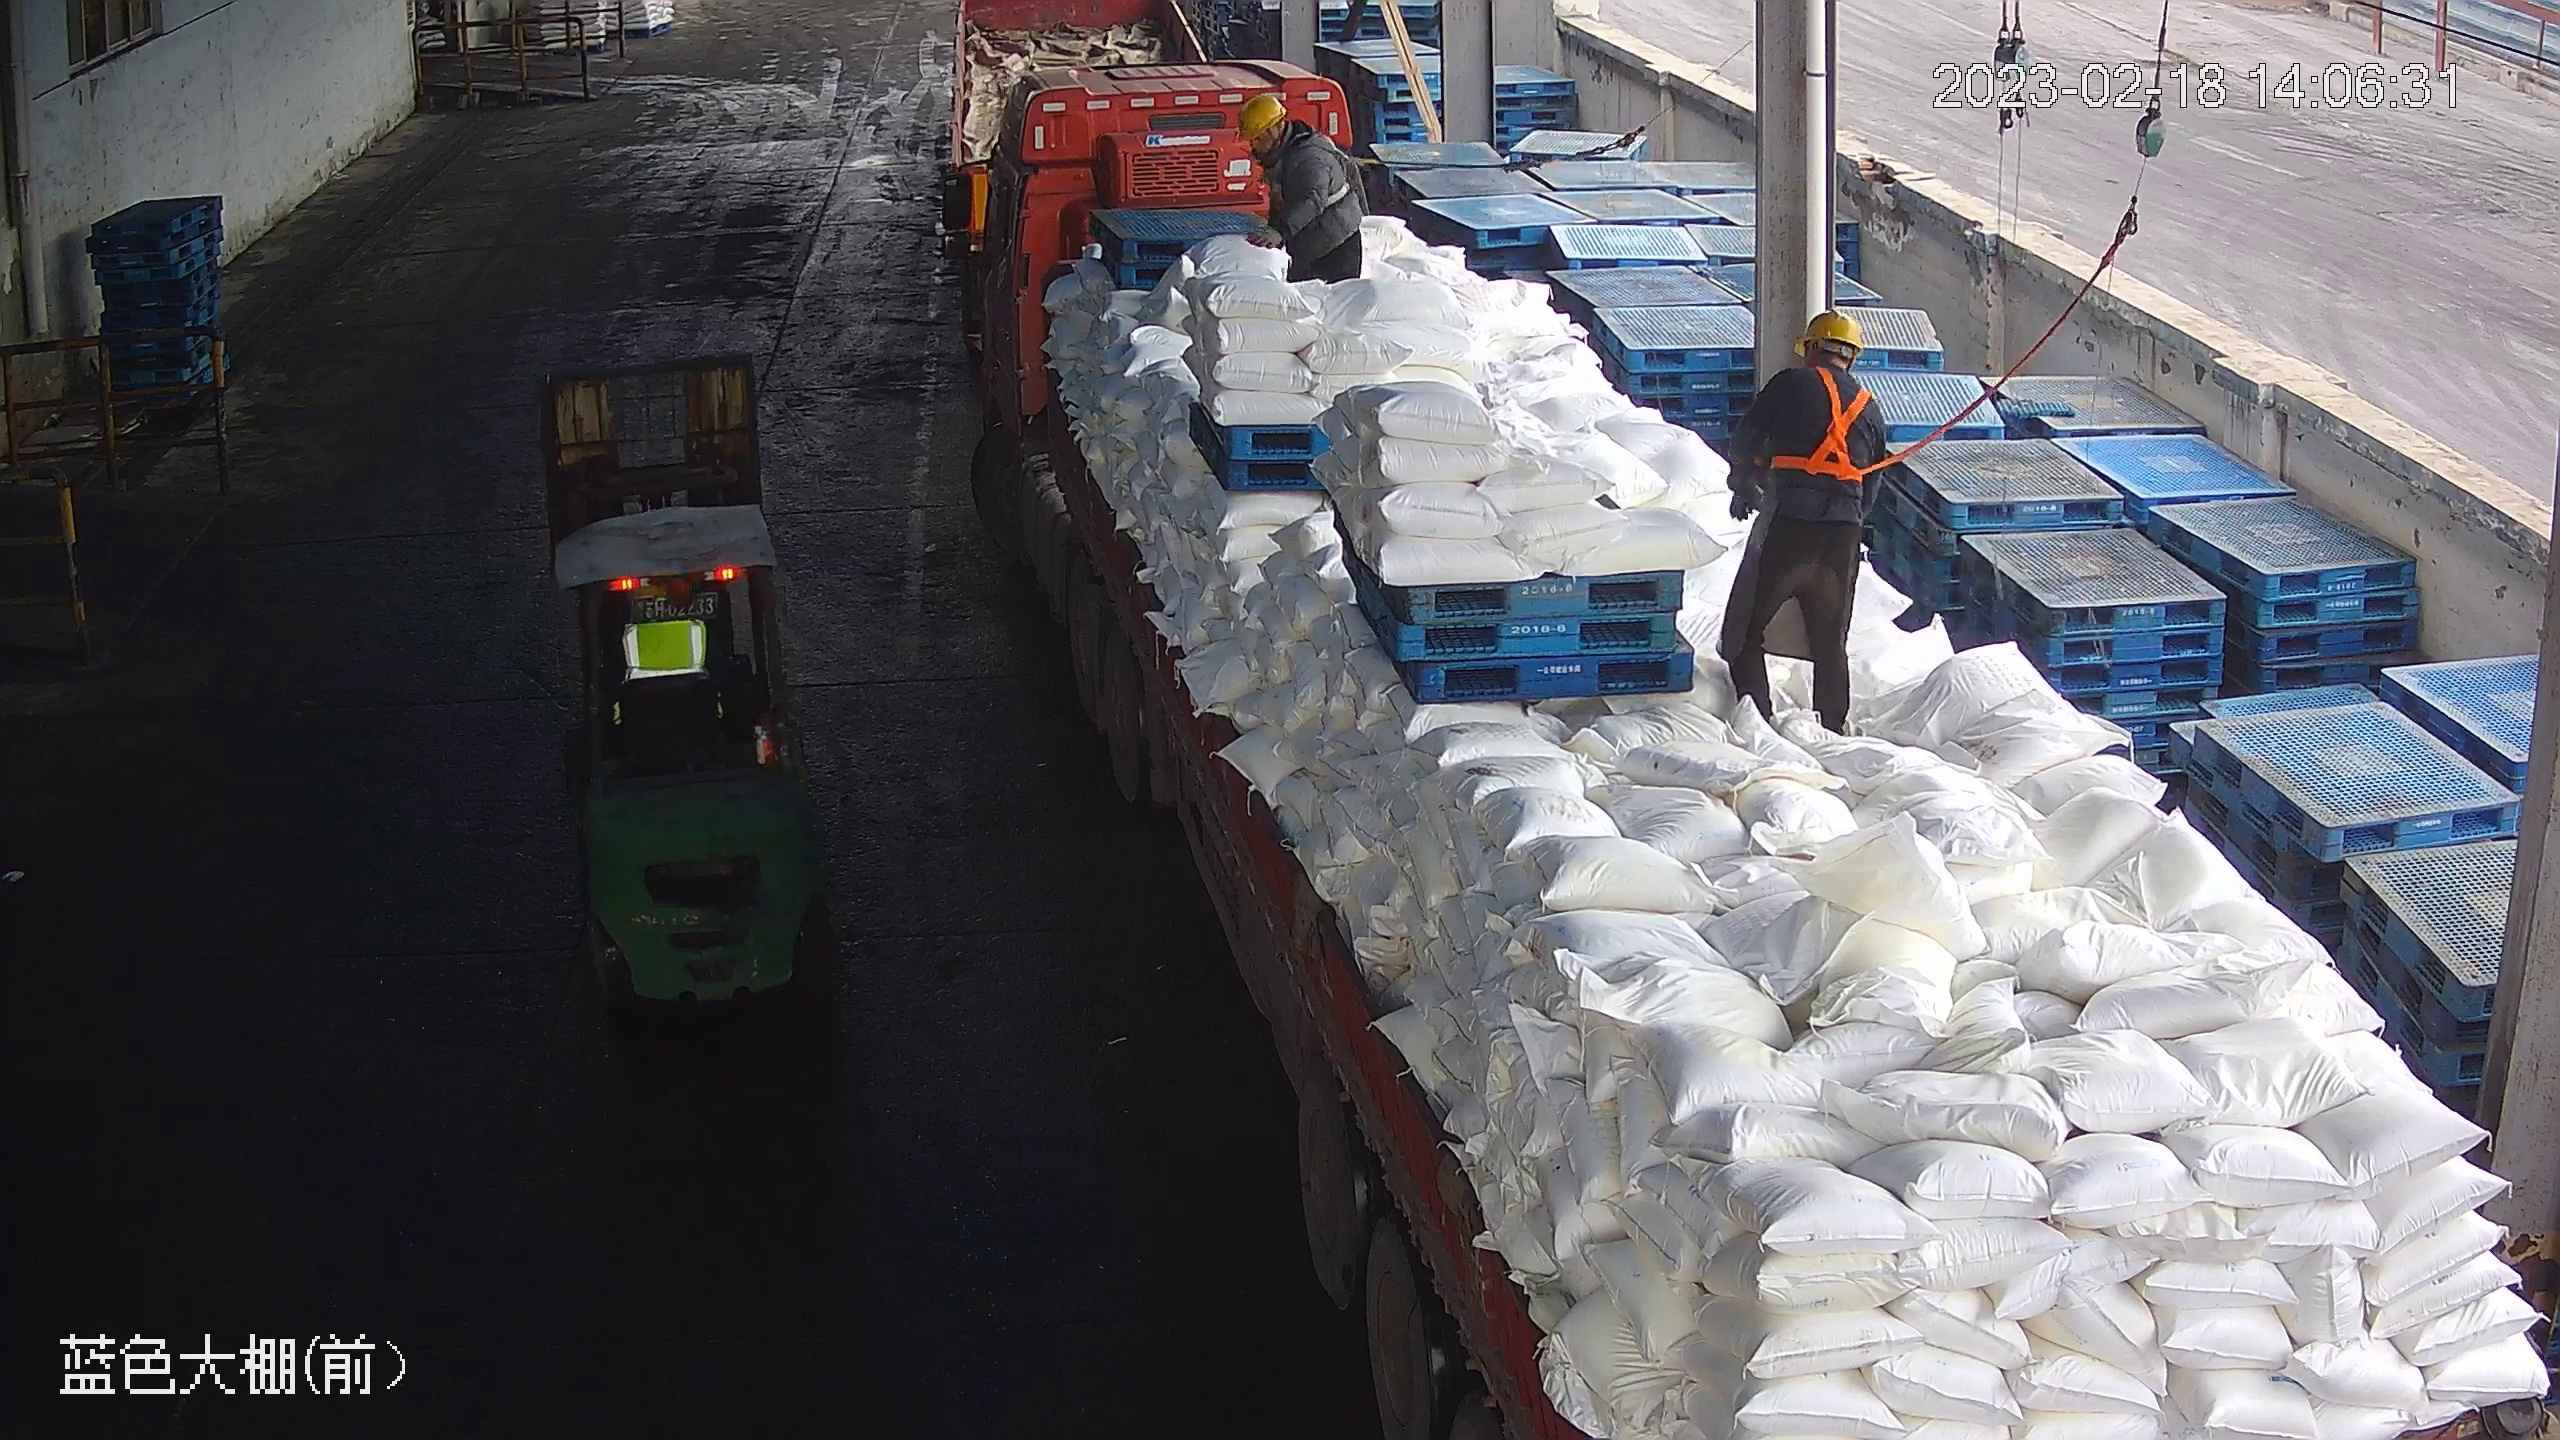belt: (1760, 363, 1880, 480), (1281, 129, 1364, 206)
head: (1744, 306, 1887, 433), (1235, 94, 1337, 180)
helmet: (1798, 306, 1864, 355), (1235, 93, 1285, 138)
people: (1710, 311, 1893, 734), (1238, 91, 1372, 287)
truck: (948, 43, 2547, 1440)
